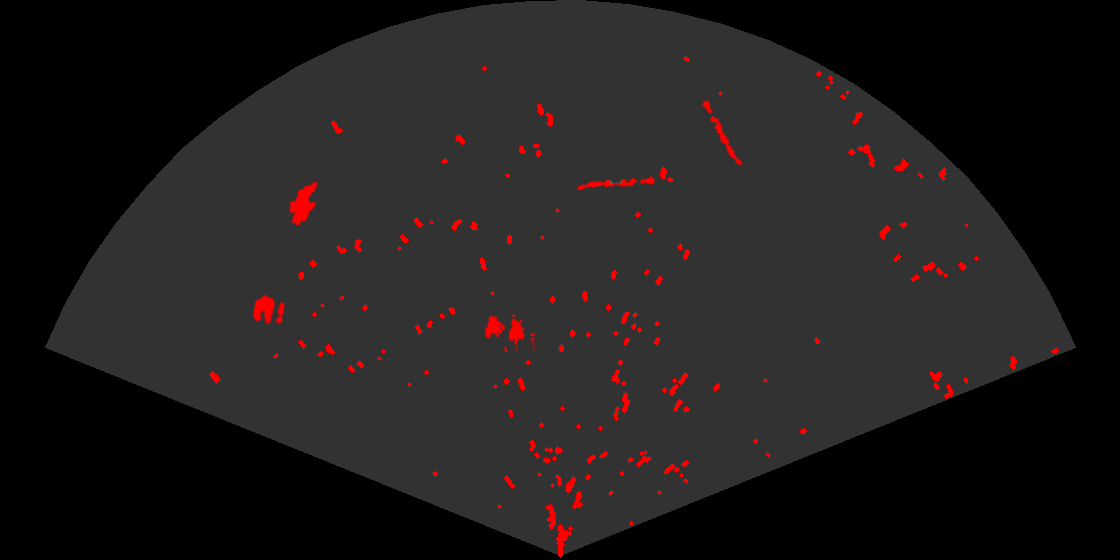AUV: (288, 180, 320, 227)
ball: (251, 293, 287, 326)
cage: (483, 312, 535, 352)
chain: (700, 96, 744, 167), (575, 174, 655, 192)
